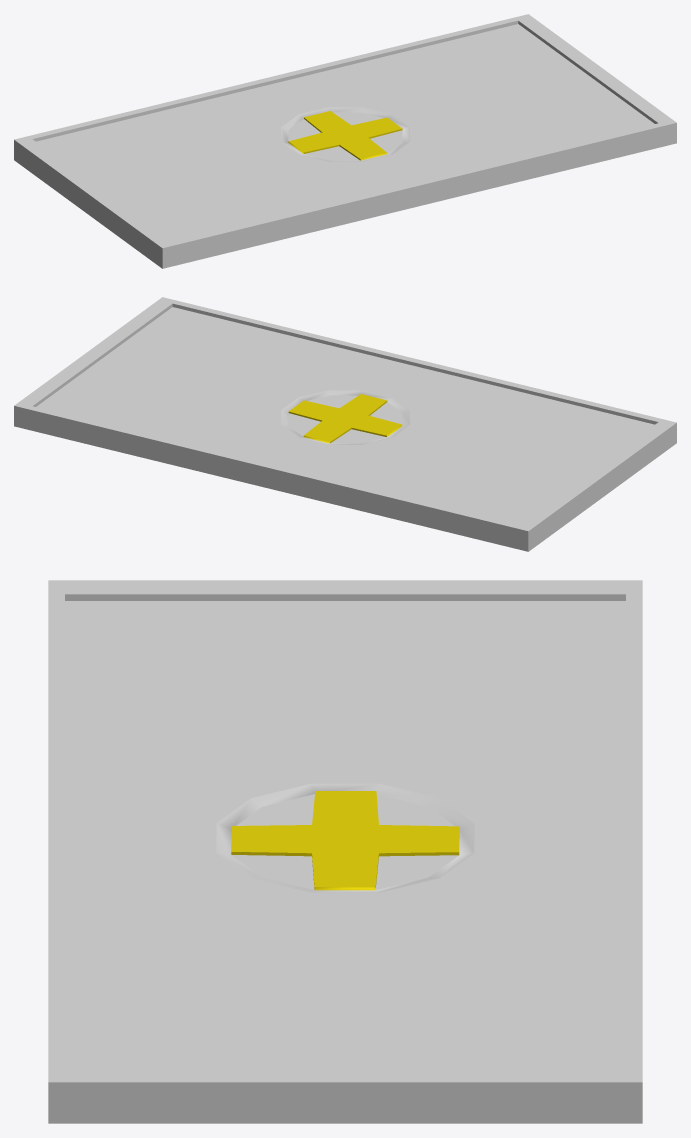
File: Square Long Platform.fbx
The picture shows the model from 3 angles, top to bottom: view 1: azimuth 30°, elevation 25°; view 2: azimuth 150°, elevation 25°; view 3: azimuth 270°, elevation 25°; orthographic projection. The views are drawn at different scales.
Parts seen in each view (by area): view 1: Square Long Platform; view 2: Square Long Platform; view 3: Square Long Platform.
Part boxes in pixels (x1,y1,x2,y2): Square Long Platform: [14, 14, 676, 268]; Square Long Platform: [14, 297, 676, 551]; Square Long Platform: [48, 580, 642, 1123].
Size of the model in its own units: 3200 by 201 by 1600.
